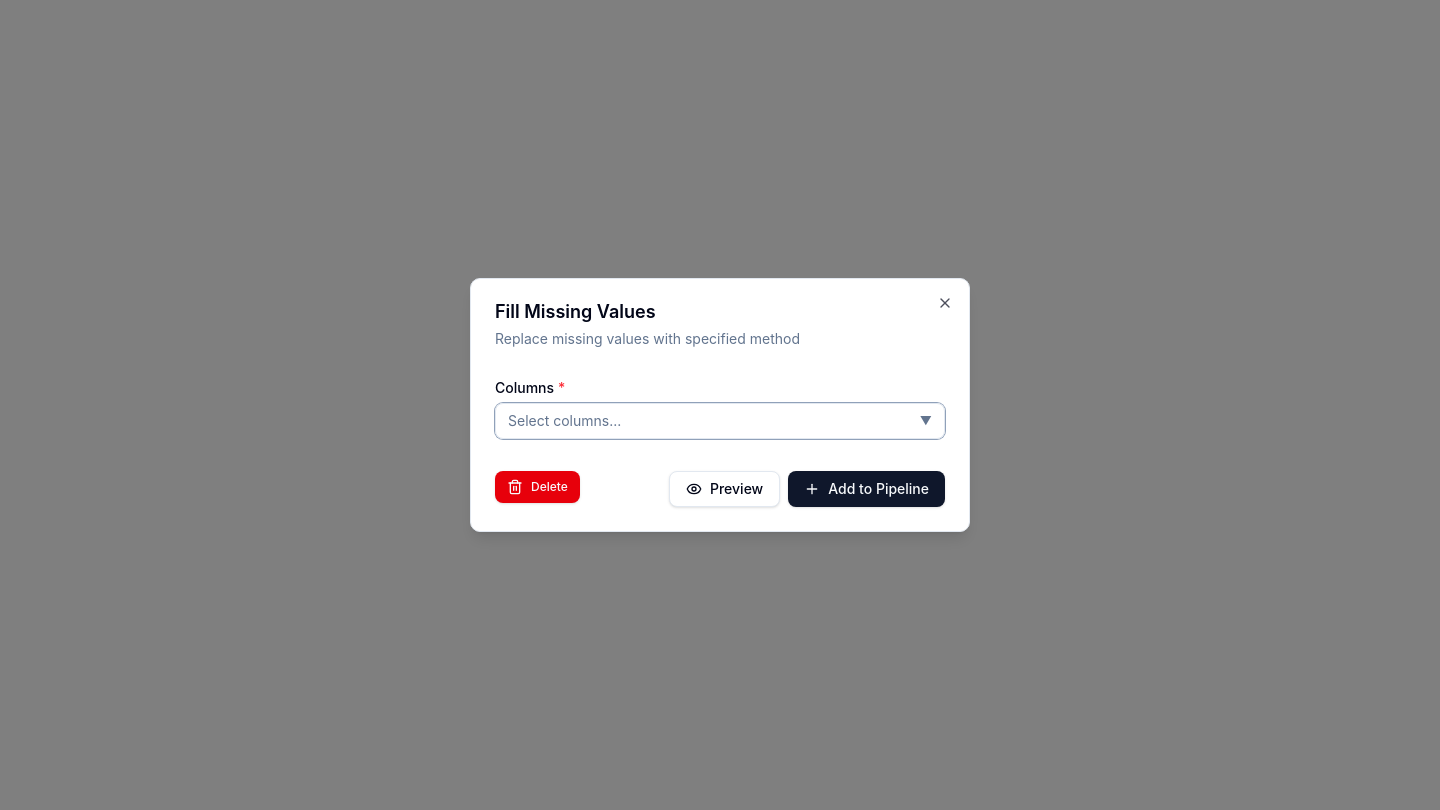
Scenario: TransformationConfigDialog › Array/Multi-Select Parameters › supports select all in multi-select
Click the text "Select columns...".
click(565, 421)  # box [508,411,621,431]
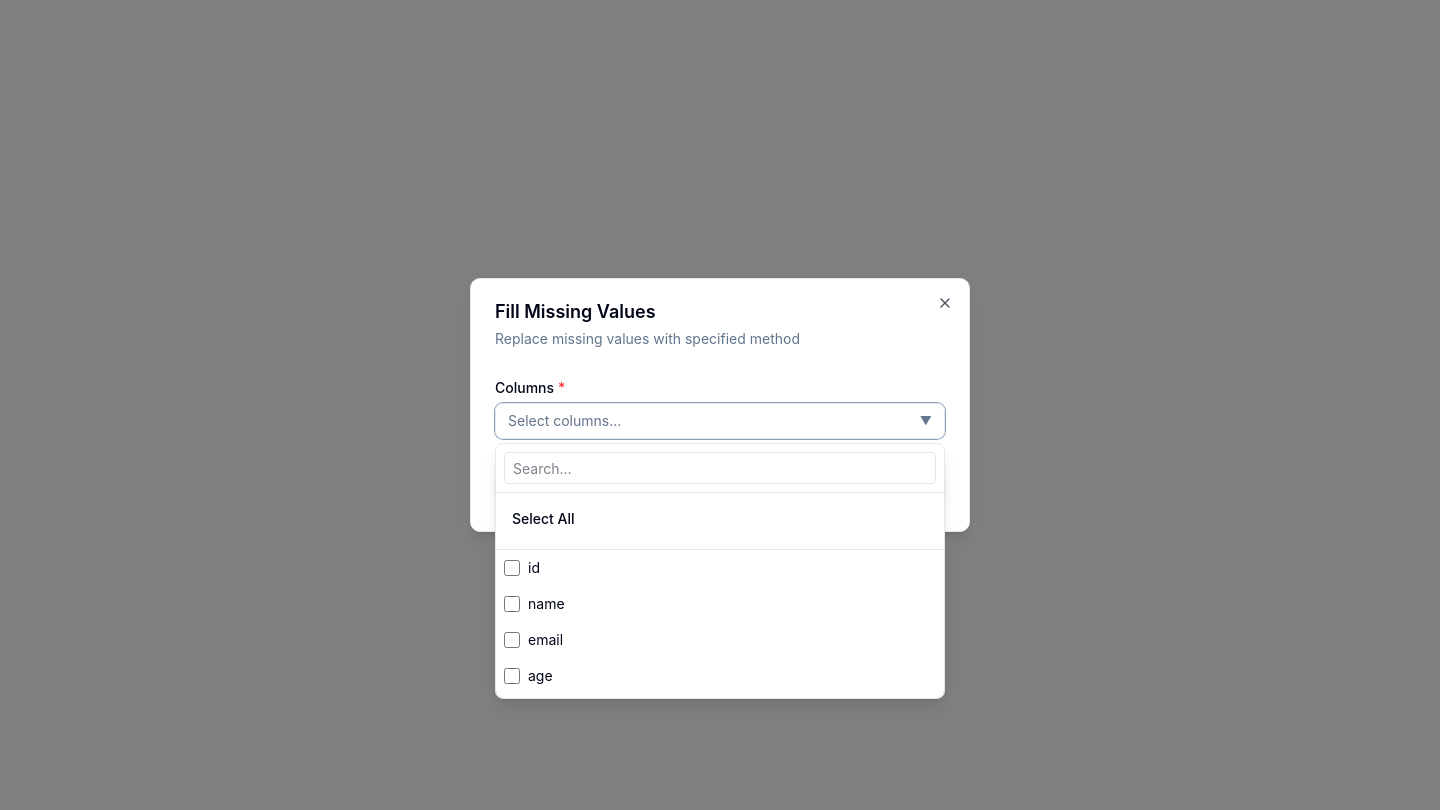
Click the button "Select All".
click(543, 518)  # box [504,501,936,537]
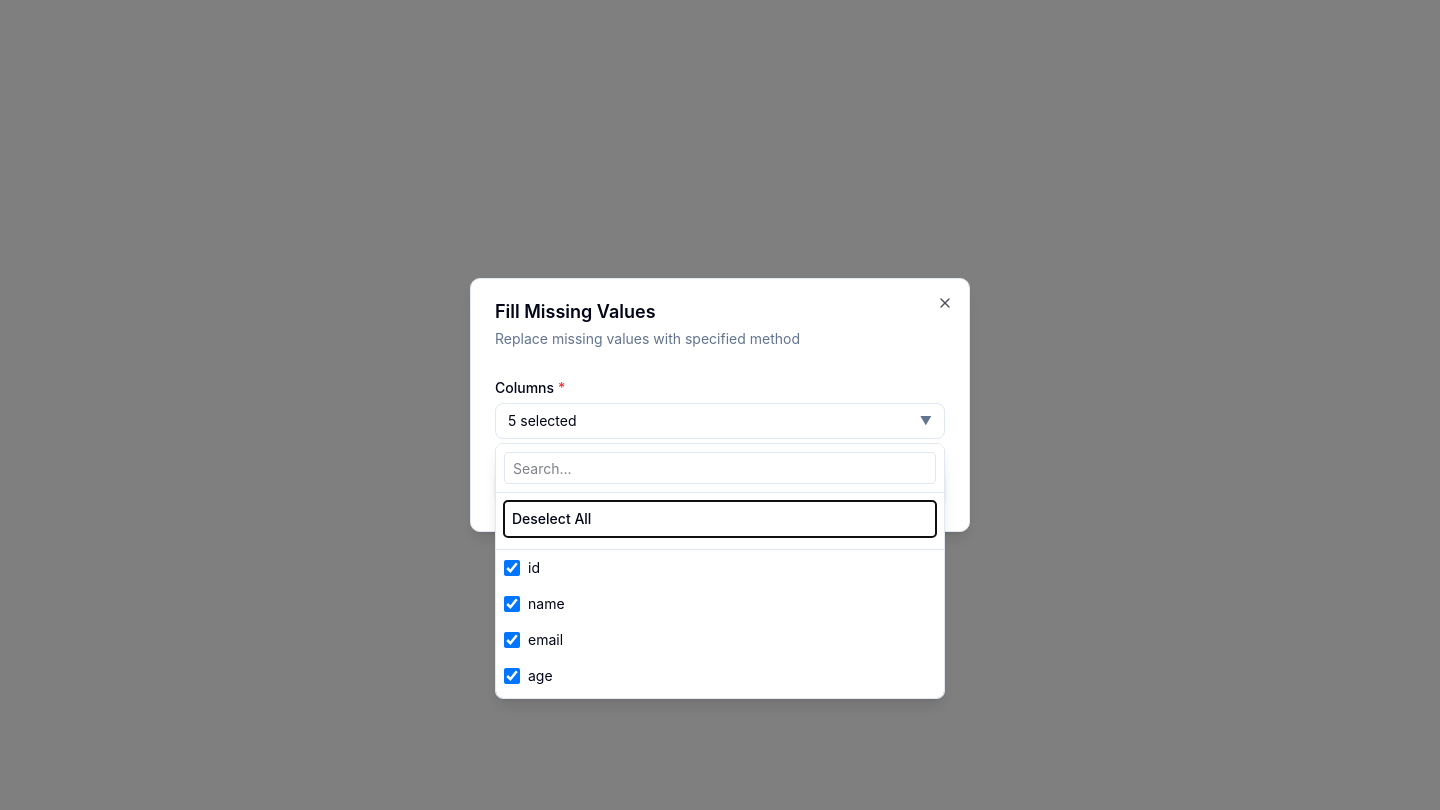
Expected: the checkbox labelled "id" is checked, [504,560,520,576]
Expected: the checkbox labelled "name" is checked, [504,596,520,612]
Expected: the checkbox labelled "email" is checked, [504,632,520,648]
